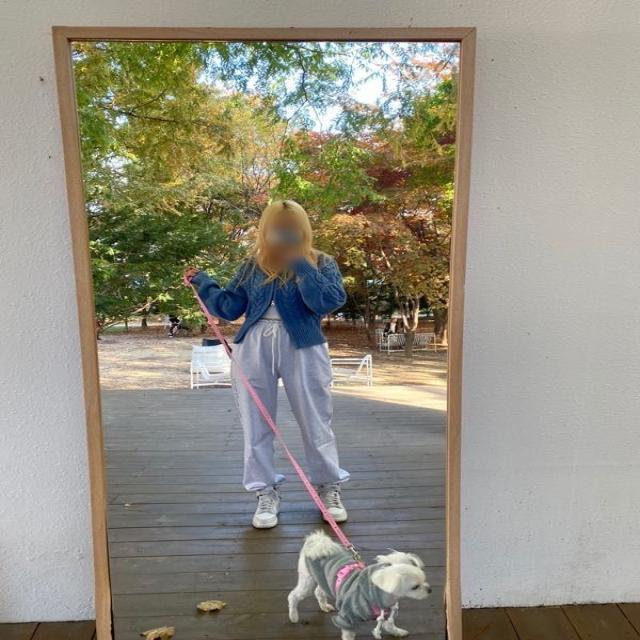cardigan: (195, 247, 349, 349)
trainingpants: (228, 311, 353, 489)
